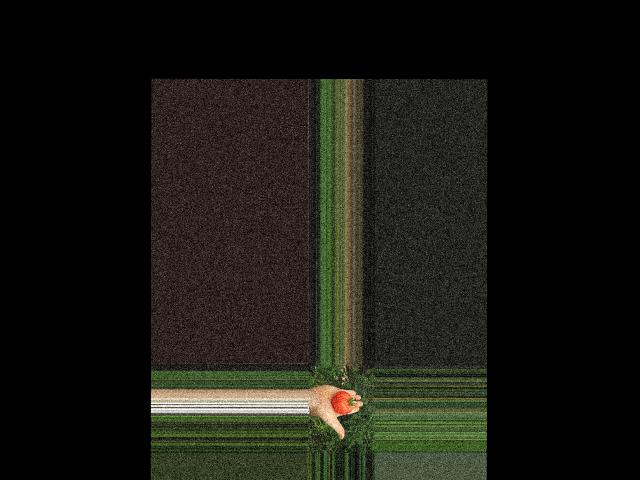tomato: (331, 390, 352, 414)
